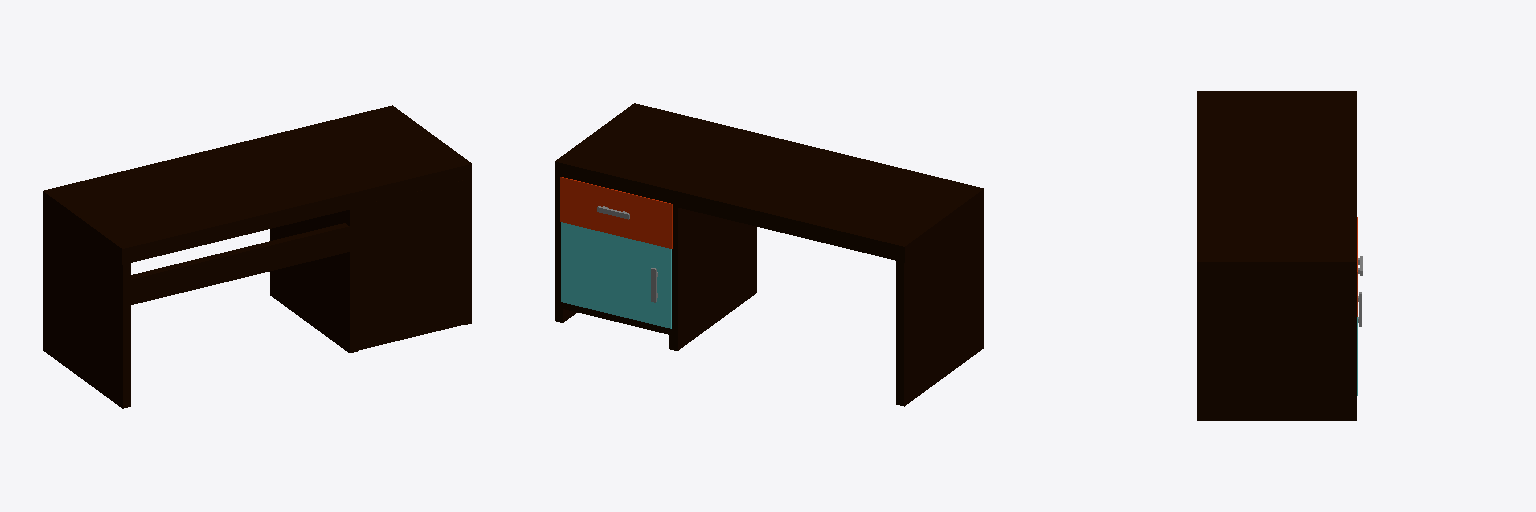
File: desk.obj
3 renders of one model, left to right at view 1: azimuth 30°, elevation 25°; view 2: azimuth 150°, elevation 25°; view 3: azimuth 270°, elevation 25°, orthographic.
Parts seen in each view (by area): view 1: Cube.003_Cube.028; view 2: Cube.003_Cube.028; view 3: Cube.003_Cube.028.
Part boxes in pixels (left/top/right/bottom): Cube.003_Cube.028: left=43, top=105, right=471, bottom=408; Cube.003_Cube.028: left=555, top=103, right=983, bottom=406; Cube.003_Cube.028: left=1197, top=91, right=1362, bottom=420.
Bounding box in the file's own units: 4.86 × 2.12 × 1.99.